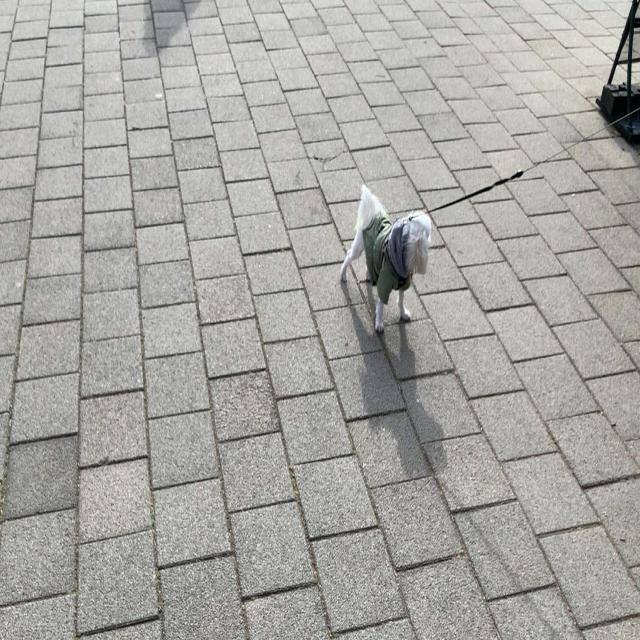Dog: (339, 181, 434, 338)
